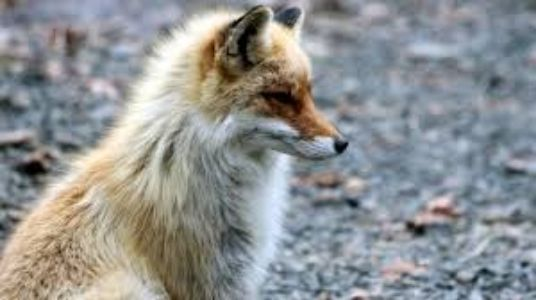fox: (72, 13, 342, 289)
